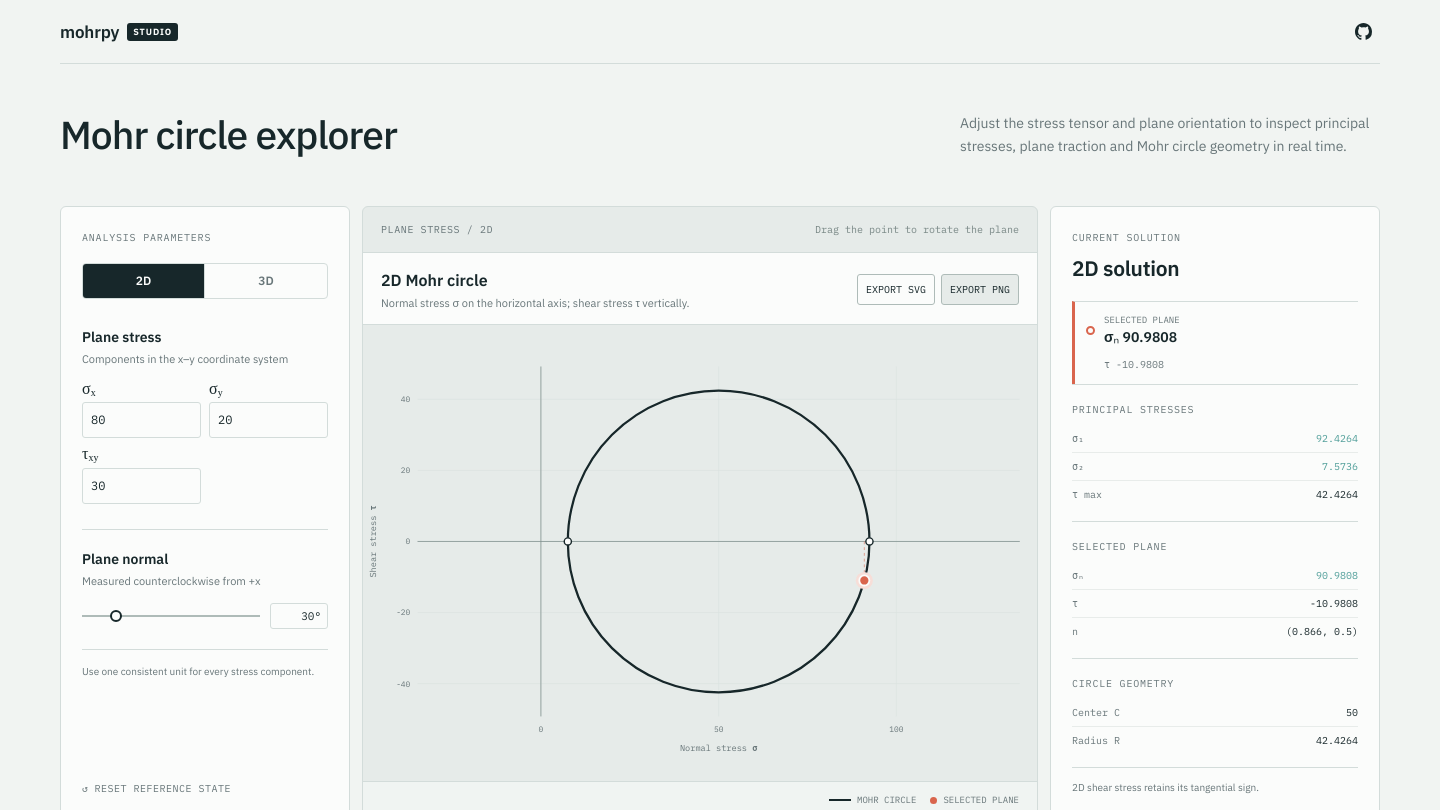
Test: interactive Mohr application › switches to 3D without mixing the 2D state
Click the button "3D" at (266, 281), box [205, 264, 327, 298]
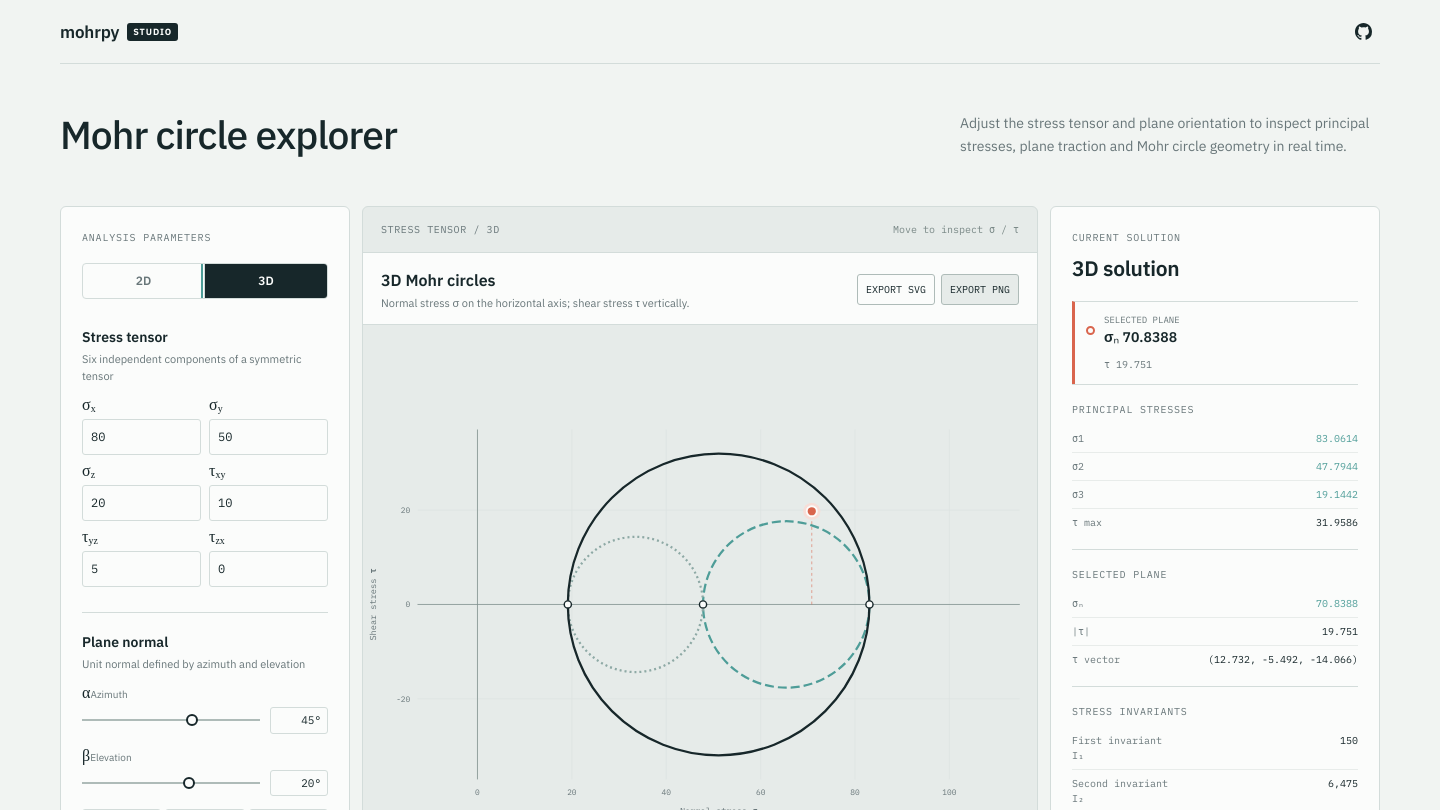
Expected: the heading "3D Mohr circles" is shown, [381, 270, 496, 290]
Expected: the slider named "3D plane normal azimuth" holds "45", [82, 710, 260, 730]
Expected: the text "First invariant I₁" is shown, [1072, 733, 1169, 763]
